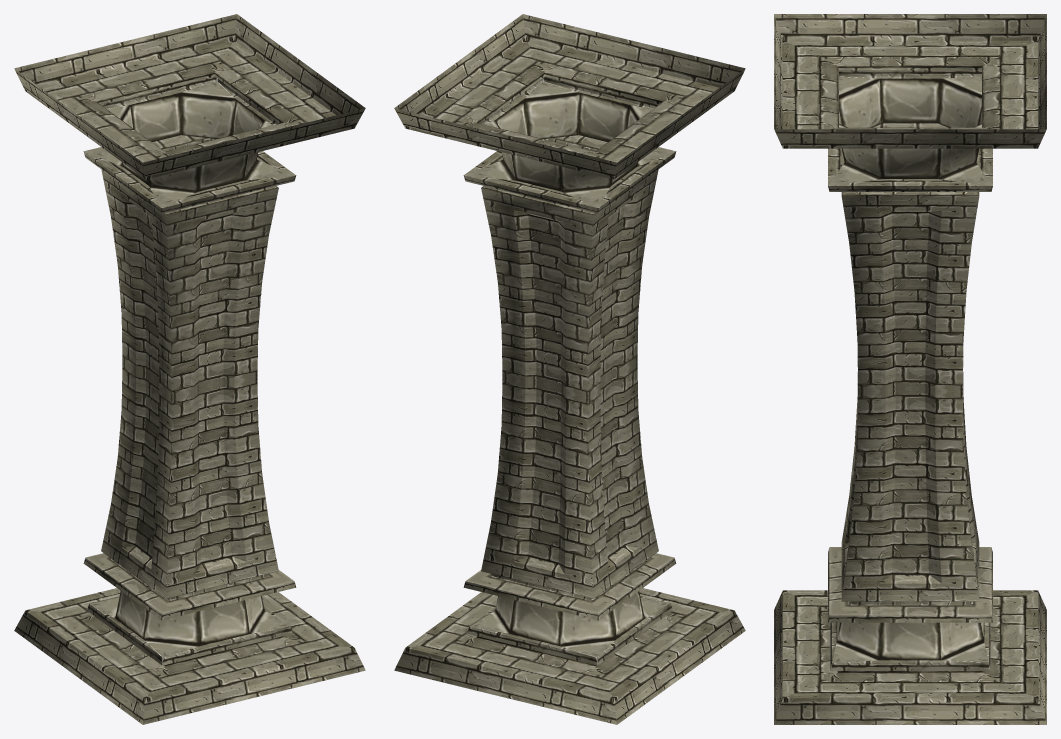
File: filar.FBX
3 renders of one model, left to right at view 1: azimuth 30°, elevation 25°; view 2: azimuth 150°, elevation 25°; view 3: azimuth 270°, elevation 25°, orthographic. The views are drawn at different scales.
Parts seen in each view (by area): view 1: Box006; view 2: Box006; view 3: Box006.
Boxes of the visible parts, x1=… form: Box006: x1=14, y1=14, x2=365, y2=724; Box006: x1=394, y1=14, x2=745, y2=724; Box006: x1=774, y1=14, x2=1046, y2=724.
Size of the model in its own units: 154 by 370 by 154.
1 material, 1 textured.
